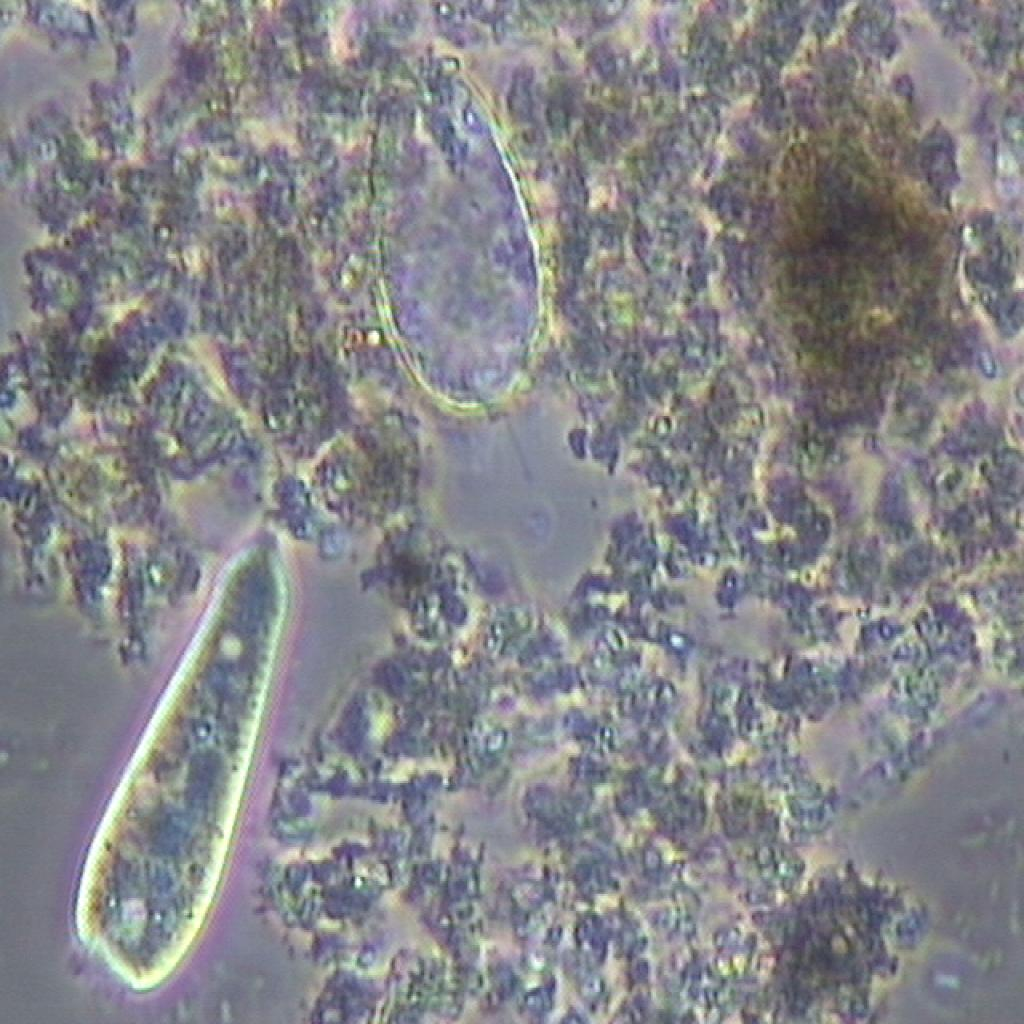Euglypha: (344, 56, 582, 438)
